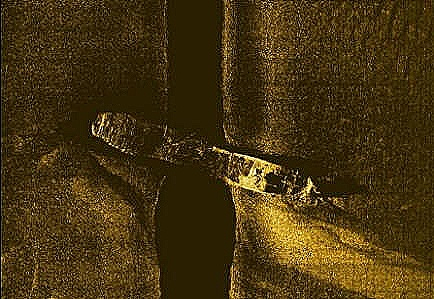ship: (90, 110, 325, 208)
